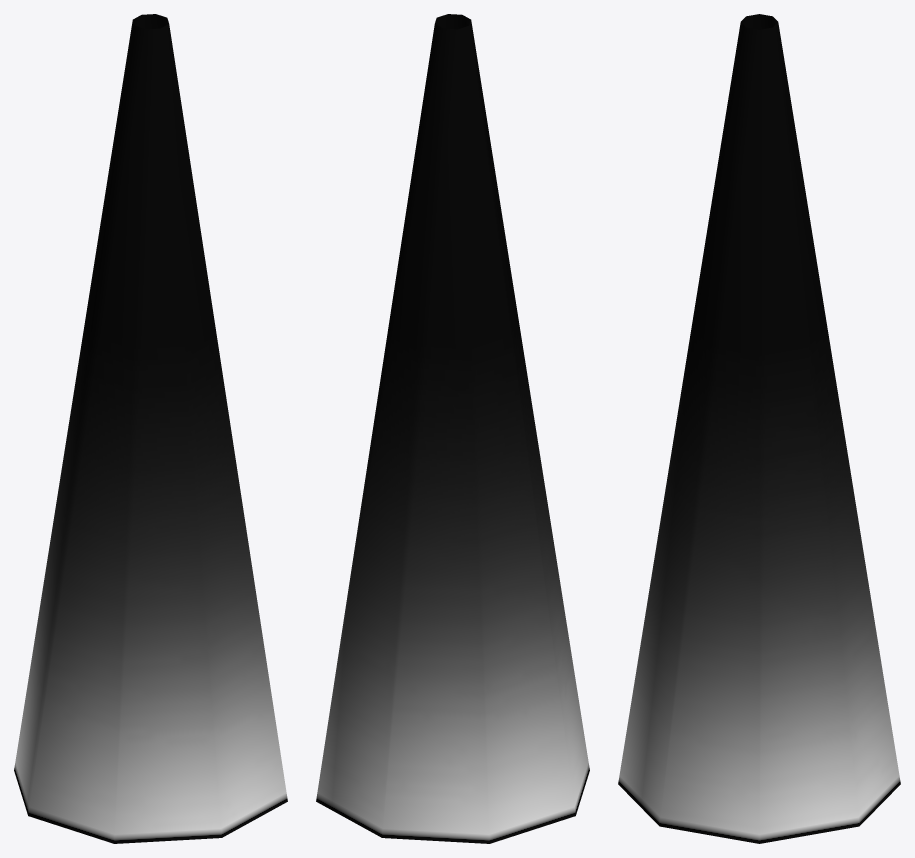
Rendered from jiamianwuhui_shedeng_yuanzhu.FBX.
3 views of the same model, side by side, from view 1: azimuth 30°, elevation 25°; view 2: azimuth 150°, elevation 25°; view 3: azimuth 270°, elevation 25° (orthographic).
Parts seen in each view (by area): view 1: Cylinder002; view 2: Cylinder002; view 3: Cylinder002.
Boxes of the visible parts, bbox=[...] form: Cylinder002: bbox=[14, 14, 287, 843]; Cylinder002: bbox=[316, 14, 589, 843]; Cylinder002: bbox=[618, 14, 900, 843].
Size of the model in its own units: 828 by 2463 by 828.
1 material, 1 textured.
